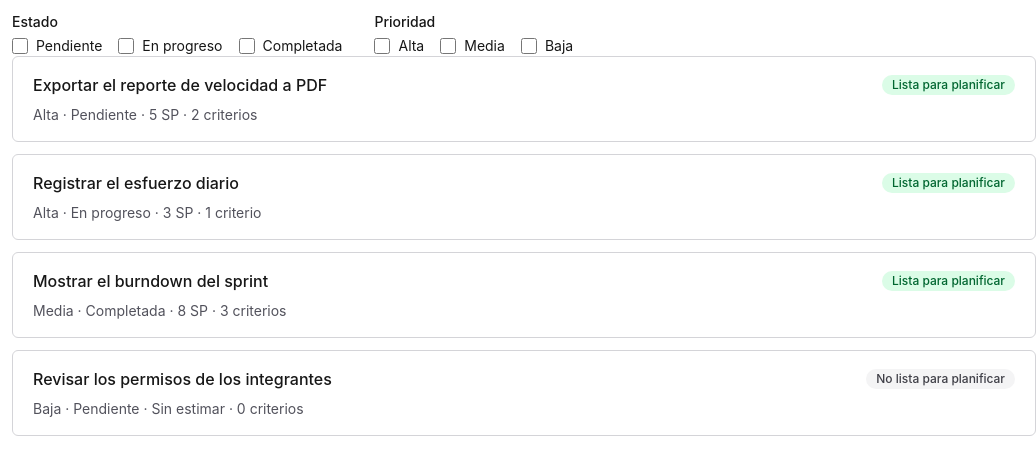
003/US2 - Ver el backlog ordenado y filtrado › al quitar el filtro vuelve a mostrar el backlog completo
The width and height of the screenshot is (1036, 453).
Check: the list item that starts with "Exportar el reporte de velocidad a PDF" is shown, box [33, 75, 327, 95]
Check: the list item that starts with "Registrar el esfuerzo diario" is shown, box [33, 173, 239, 193]
Click the checkbox labelled "Completada".
click(246, 46)  # box [238, 38, 254, 54]
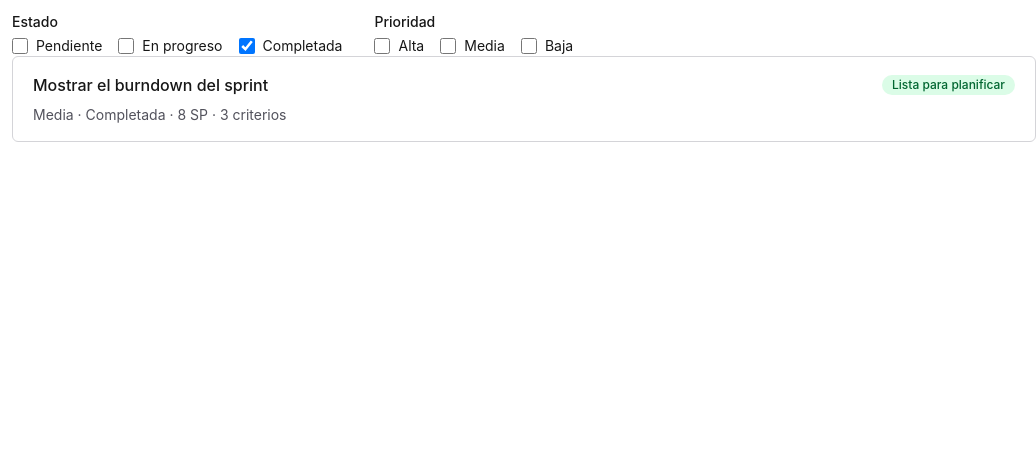
Check: the list item shows "Mostrar el burndown del sprint", box [33, 75, 268, 95]
Click the checkbox labelled "Completada".
click(246, 46)  # box [238, 38, 254, 54]
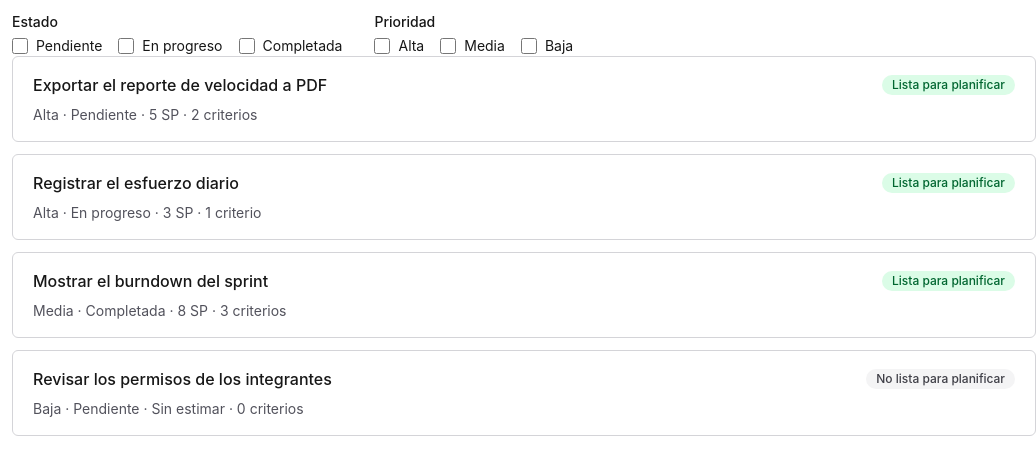
Check: the number of list items is 4, box [12, 56, 1035, 142]; [12, 154, 1035, 240]; [12, 252, 1035, 338]; [12, 350, 1035, 436]
Check: the list item that starts with "Exportar el reporte de velocidad a PDF" is shown, box [33, 75, 327, 95]
Check: the list item that starts with "Registrar el esfuerzo diario" is shown, box [33, 173, 239, 193]
